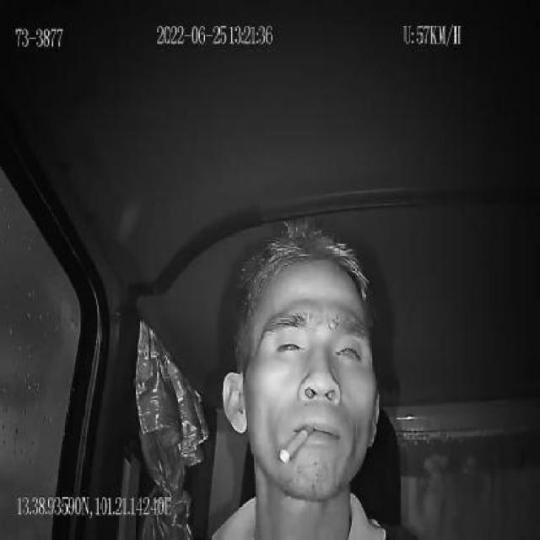smoking: (279, 424, 314, 464)
